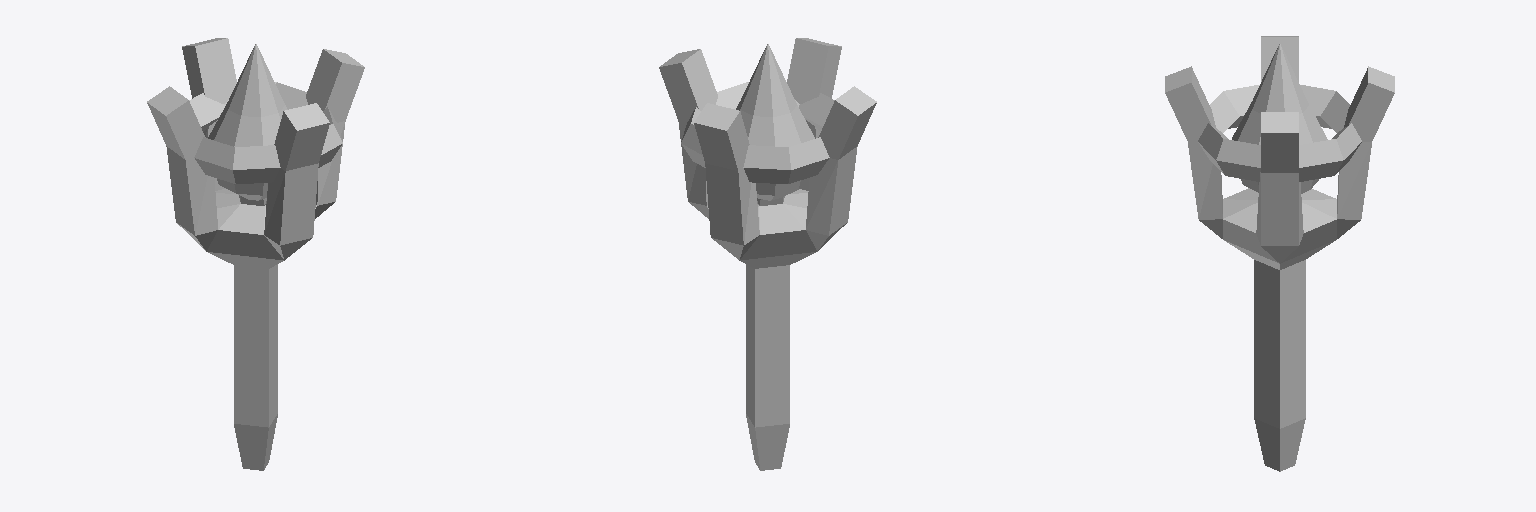
The model's file is torch_lit.obj.
3 views of the same model, side by side, from view 1: azimuth 30°, elevation 25°; view 2: azimuth 150°, elevation 25°; view 3: azimuth 270°, elevation 25° (orthographic).
Parts seen in each view (by area): view 1: torch_lit; view 2: torch_lit; view 3: torch_lit.
Boxes of the visible parts, x1,y1,x2,y2 form: torch_lit: [147, 38, 364, 470]; torch_lit: [659, 38, 876, 470]; torch_lit: [1165, 36, 1394, 471].
Bounding box in the file's own units: 0.5503 × 1.13 × 0.5503.